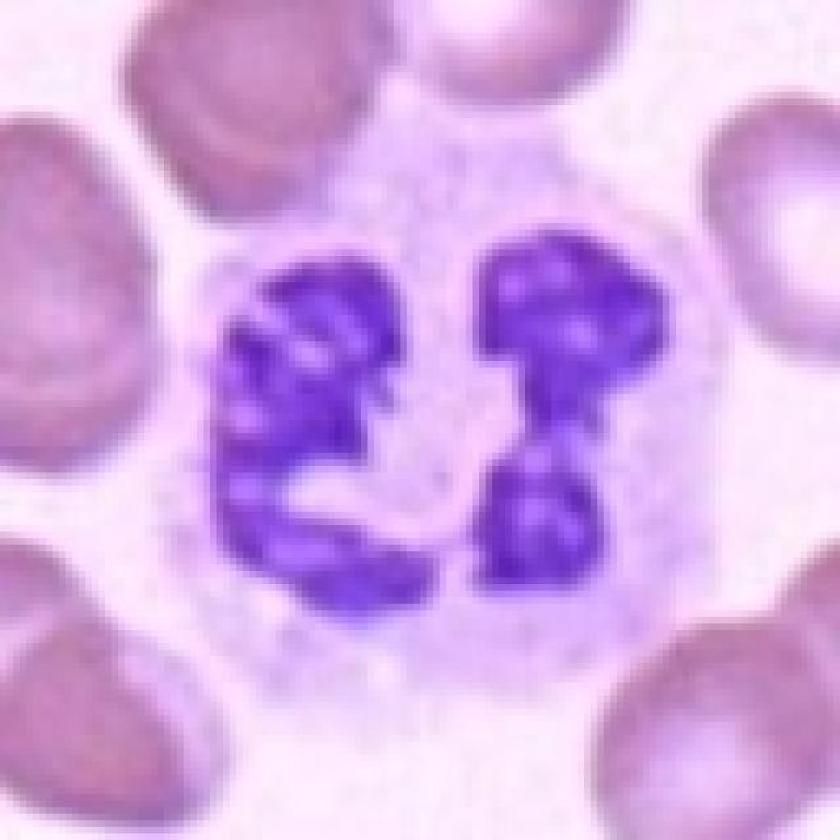neutrophil: (98, 109, 719, 732)
